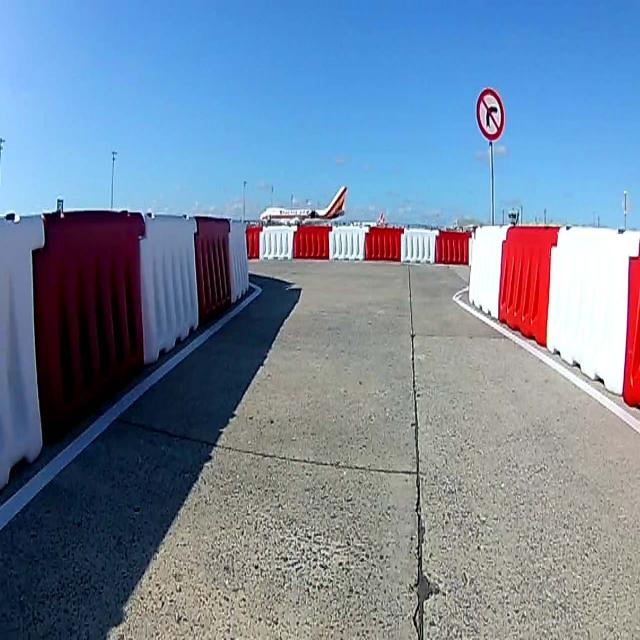sagadonulmez: (476, 89, 504, 140)
